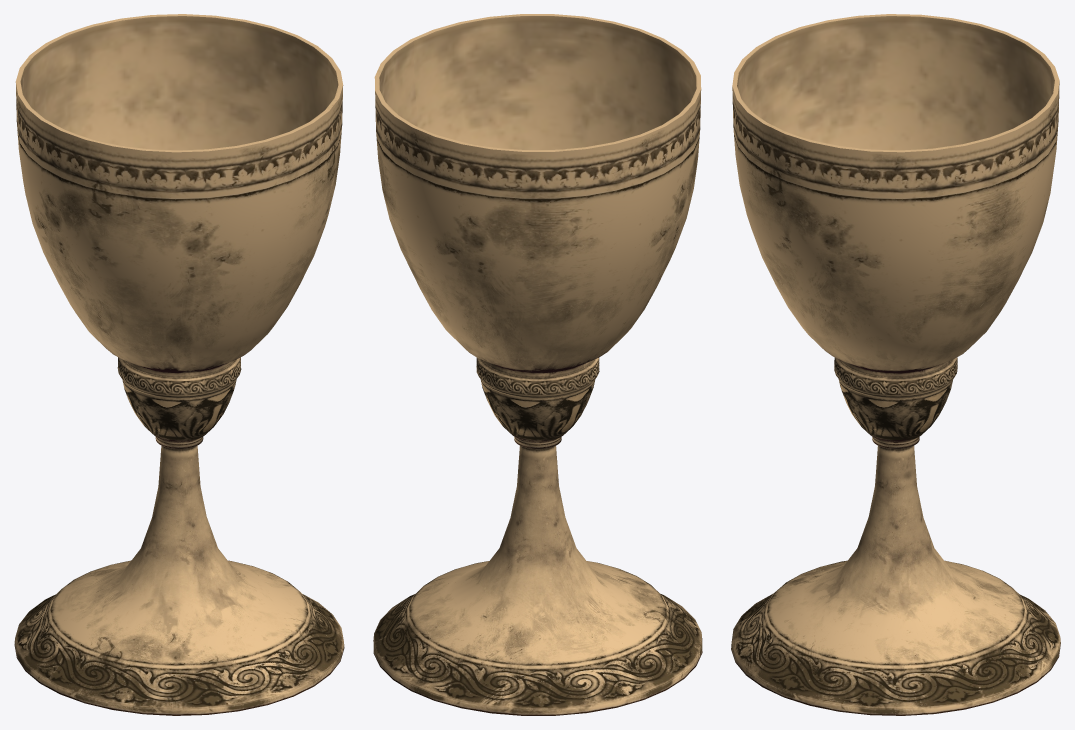
File: brass_goblet_1k.glb
The picture shows the model from 3 angles, left to right: view 1: azimuth 30°, elevation 25°; view 2: azimuth 150°, elevation 25°; view 3: azimuth 270°, elevation 25°; orthographic projection.
Parts seen in each view (by area): view 1: brass_goblet_02; view 2: brass_goblet_02; view 3: brass_goblet_02.
Part boxes in pixels (x1,y1,x2,y2): brass_goblet_02: (14,14,344,715); brass_goblet_02: (373,14,702,715); brass_goblet_02: (731,14,1060,715).
Bounding box in the file's own units: 0.1411 × 0.2658 × 0.1411.
Materials: 1 (1 with a texture image).
